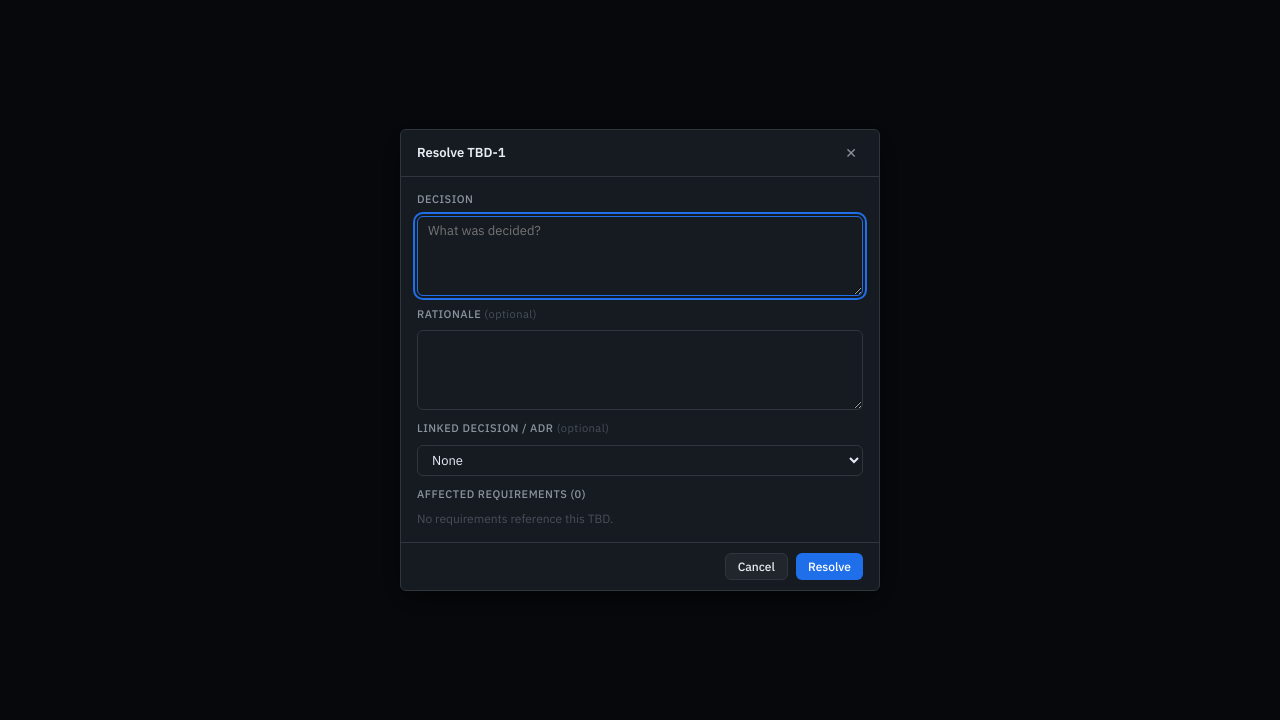
Test case: ResolveDialog (MOD-16) › shows the server error and stays open
Type "x" into the text box labelled "Decision".
click(640, 256); type("x")  # box top-left (417, 216), bottom-right (863, 296)
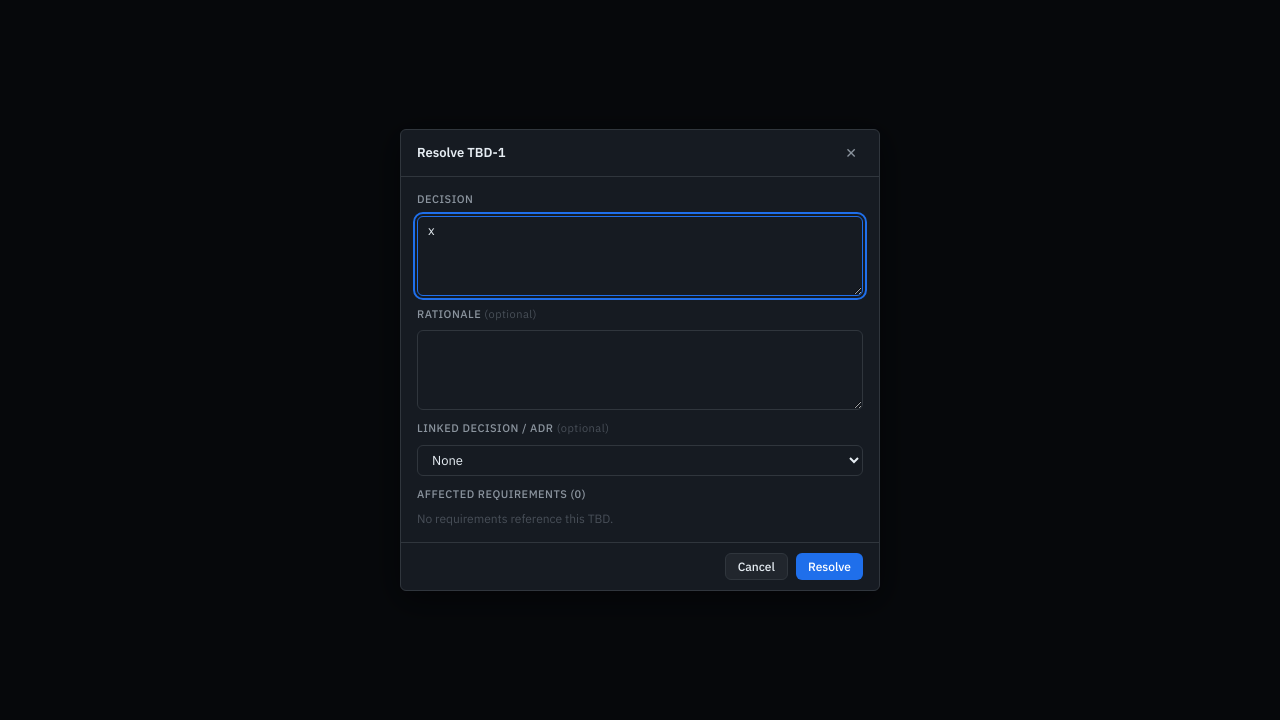
Click the button "Resolve".
click(830, 566)  # box top-left (796, 553), bottom-right (863, 580)
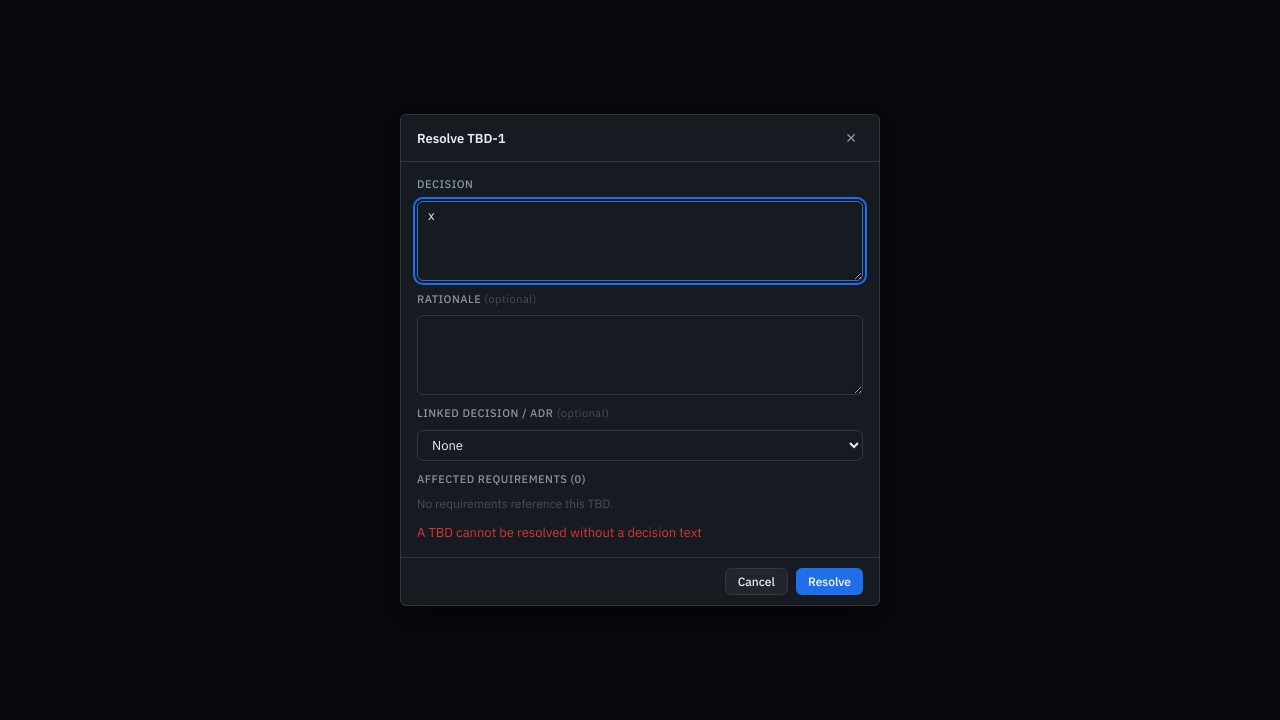
Now the message shows "without a decision", box top-left (417, 524), bottom-right (702, 541)
